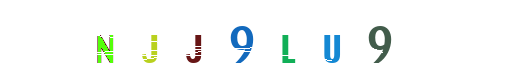9: (217, 0, 297, 80), (275, 0, 355, 80)
J: (112, 0, 192, 80), (209, 0, 289, 80)
L: (243, 0, 323, 80)
N: (65, 0, 145, 80)
U: (246, 0, 326, 80)
